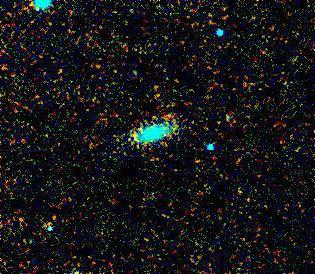star: (117, 119, 147, 149)
